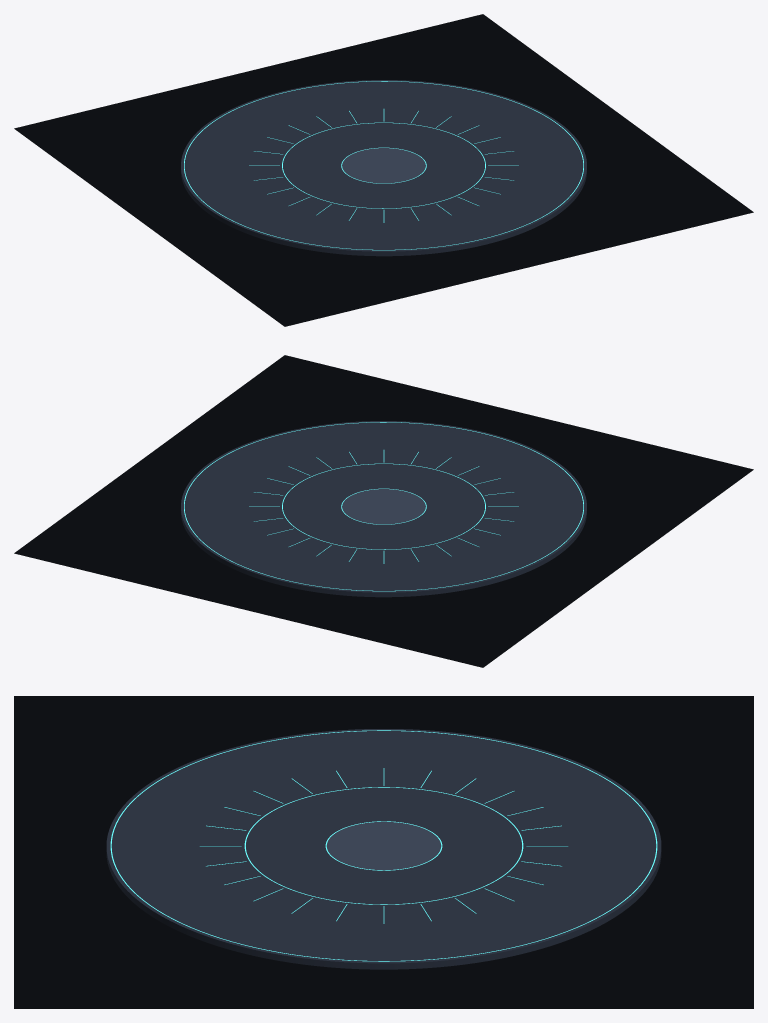
The picture shows the model from 3 angles, top to bottom: view 1: azimuth 30°, elevation 25°; view 2: azimuth 150°, elevation 25°; view 3: azimuth 270°, elevation 25°; orthographic projection. The views are drawn at different scales.
Visible parts, largest first — view 1: nexo_floor.lod0; view 2: nexo_floor.lod0; view 3: nexo_floor.lod0.
Boxes of the visible parts, box(x1,y1,x2,y2) form: nexo_floor.lod0: box(14, 14, 753, 326); nexo_floor.lod0: box(14, 355, 753, 667); nexo_floor.lod0: box(14, 696, 753, 1008).
Size of the model in its own units: 64 by 0.6328 by 64.
